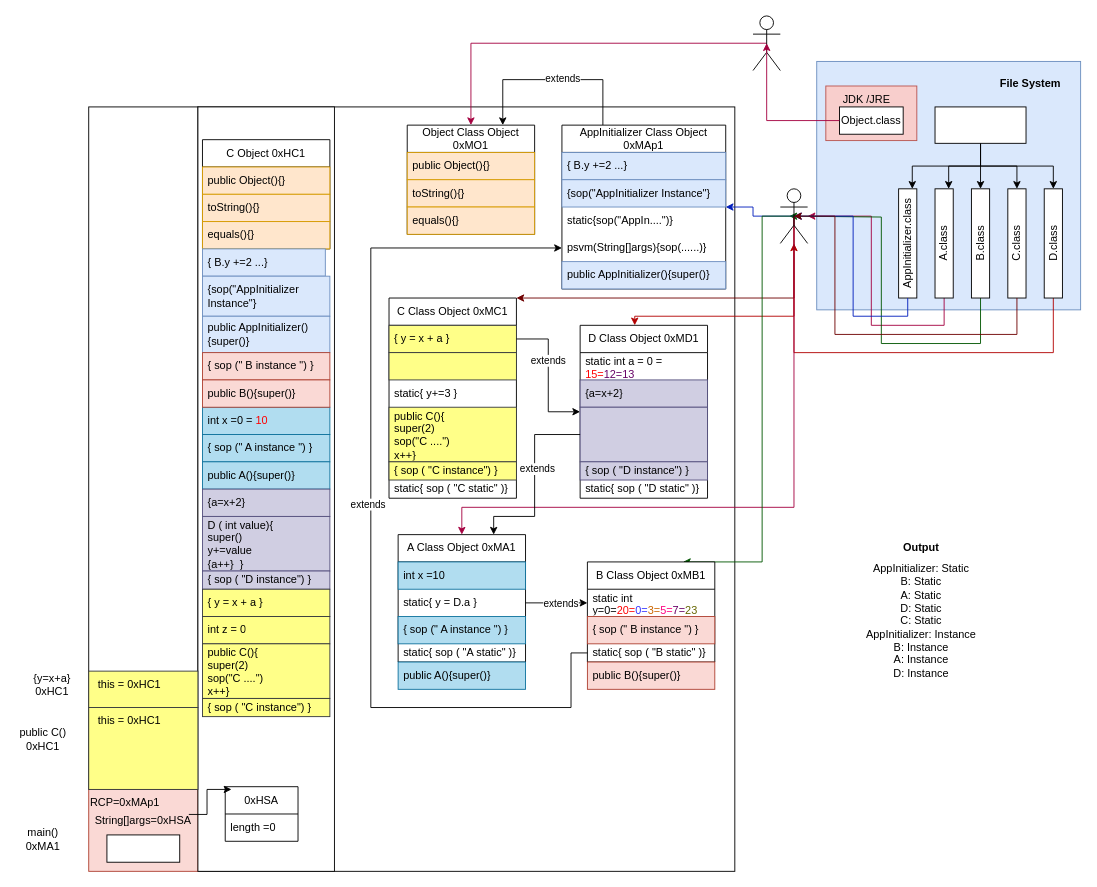
This 1097x887 diagram has some shape labels left out. The centre of each missing label's shape, as x and y in pixels:
"App Class Loader" goes at (x=793, y=215).
"AppInitializer.java" goes at (x=980, y=124).
"Bootstrap Class Loader" goes at (x=766, y=43).
"D ( int value){ y+=value {a++} }" goes at (x=643, y=434).
"int z = x + y" goes at (x=452, y=366).
"operand stack" goes at (x=143, y=848).
